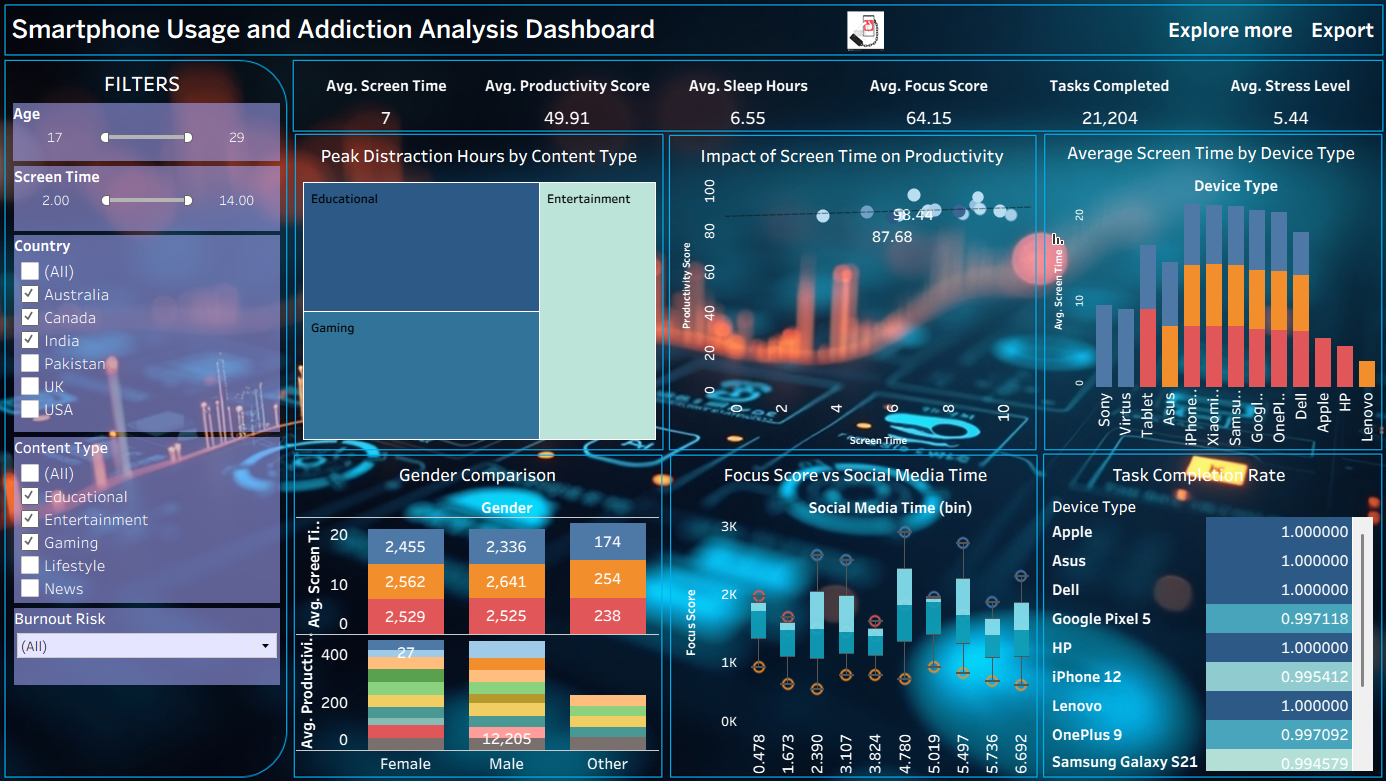

What the dashboard file says about the page in this screenshot:
{"tool":"tableau","page":{"name":"didgital_Addiction_and_productivity_dashboard (1)","canvas":[1400,800],"ordinal":0},"visuals":[{"type":"image","param":"Image/digital_addiction_bg_2.PNG","box":[0,0,1400,800]},{"type":"image","param":"Image/addiction.png","box":[847,20,49,40]},{"type":"dashboard-object","box":[1163,21,146,33]},{"type":"text","box":[14,23,651,30]},{"type":"worksheet","title":"KPI","mark":"Automatic","box":[302,74,1085,65]},{"type":"text","box":[98,77,100,30]},{"type":"filter","title":"Filters","param":"[federated.1l17ptl0z298e1154kmrq1arx611].[none:Age:qk]","box":[19,112,267,58]},{"type":"worksheet","title":"Average Screen Time by Device Type","mark":"Automatic","rows":["Screen Time"],"cols":["Device Type"],"box":[1050,145,334,311]},{"type":"worksheet","title":"Peak Distraction Hours by Content Type","mark":"Automatic","box":[305,148,360,308]},{"type":"worksheet","title":"Impact of Screen Time on Productivity","mark":"Circle","rows":["Productivity Score"],"cols":["Screen Time"],"box":[678,148,360,308]},{"type":"filter","title":"Filters","param":"[federated.1l17ptl0z298e1154kmrq1arx611].[none:Screen Time:qk]","box":[20,175,266,65]},{"type":"filter","title":"Filters","param":"[federated.1l17ptl0z298e1154kmrq1arx611].[none:Country:nk]","box":[20,244,266,197]},{"type":"worksheet","title":"Filters","mark":"Automatic","box":[931,292,84,37]},{"type":"filter","title":"Filters","param":"[federated.1l17ptl0z298e1154kmrq1arx611].[none:Content Type:nk]","box":[20,446,266,166]},{"type":"worksheet","title":"Gender Comparison","mark":"Automatic","rows":["Screen Time","Productivity Score"],"cols":["Gender"],"box":[302,467,363,318]},{"type":"worksheet","title":"Focus Score vs Social Media Time","mark":"Shape","rows":["Focus Score"],"cols":["Social Media Time (bin)"],"box":[681,467,361,317]},{"type":"worksheet","title":"Task Completion Rate","mark":"Square","rows":["Device Type"],"box":[1052,467,334,313]},{"type":"filter","title":"Filters","param":"[federated.1l17ptl0z298e1154kmrq1arx611].[none:Burnout Risk:nk]","box":[20,617,266,77]}]}

Visuals, with their boxes in screenshot pixels (x1, y1, x2, y2), scaled from the page's 1400x800 canvas onto the 1386x781 screenshot:
image: select_region(0, 0, 1385, 780)
image: select_region(839, 20, 887, 59)
dashboard-object: select_region(1151, 21, 1296, 53)
text: select_region(14, 22, 658, 52)
"KPI" worksheet: select_region(299, 72, 1373, 136)
text: select_region(97, 75, 196, 104)
"Filters" filter: select_region(19, 109, 283, 166)
"Average Screen Time by Device Type" worksheet: select_region(1040, 142, 1370, 445)
"Peak Distraction Hours by Content Type" worksheet: select_region(302, 144, 658, 445)
"Impact of Screen Time on Productivity" worksheet (Circle marks): select_region(671, 144, 1028, 445)
"Filters" filter: select_region(20, 171, 283, 234)
"Filters" filter: select_region(20, 238, 283, 431)
"Filters" worksheet: select_region(922, 285, 1005, 321)
"Filters" filter: select_region(20, 435, 283, 597)
"Gender Comparison" worksheet: select_region(299, 456, 658, 766)
"Focus Score vs Social Media Time" worksheet (Shape marks): select_region(674, 456, 1032, 765)
"Task Completion Rate" worksheet (Square marks): select_region(1041, 456, 1372, 761)
"Filters" filter: select_region(20, 602, 283, 678)
